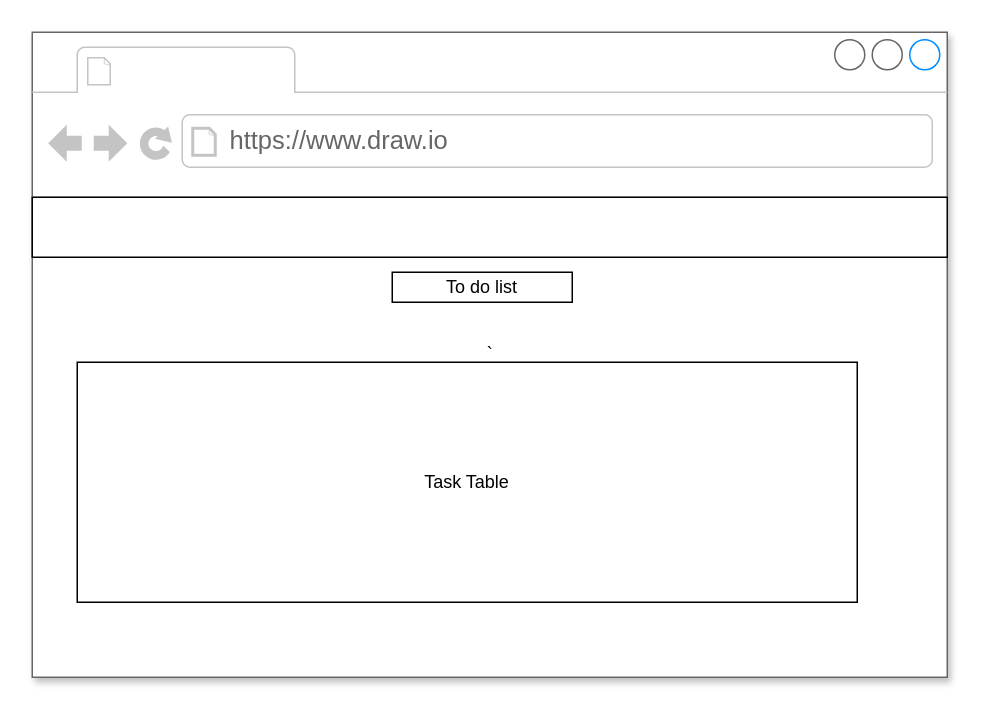
The diagram is 983 pixels wide and 714 high, and some of its shapes have lost their labels. Each missing label, with the centre of its shape:
Page 1: the point at 204,69
Task Management Contact To Do: the point at 489,226
